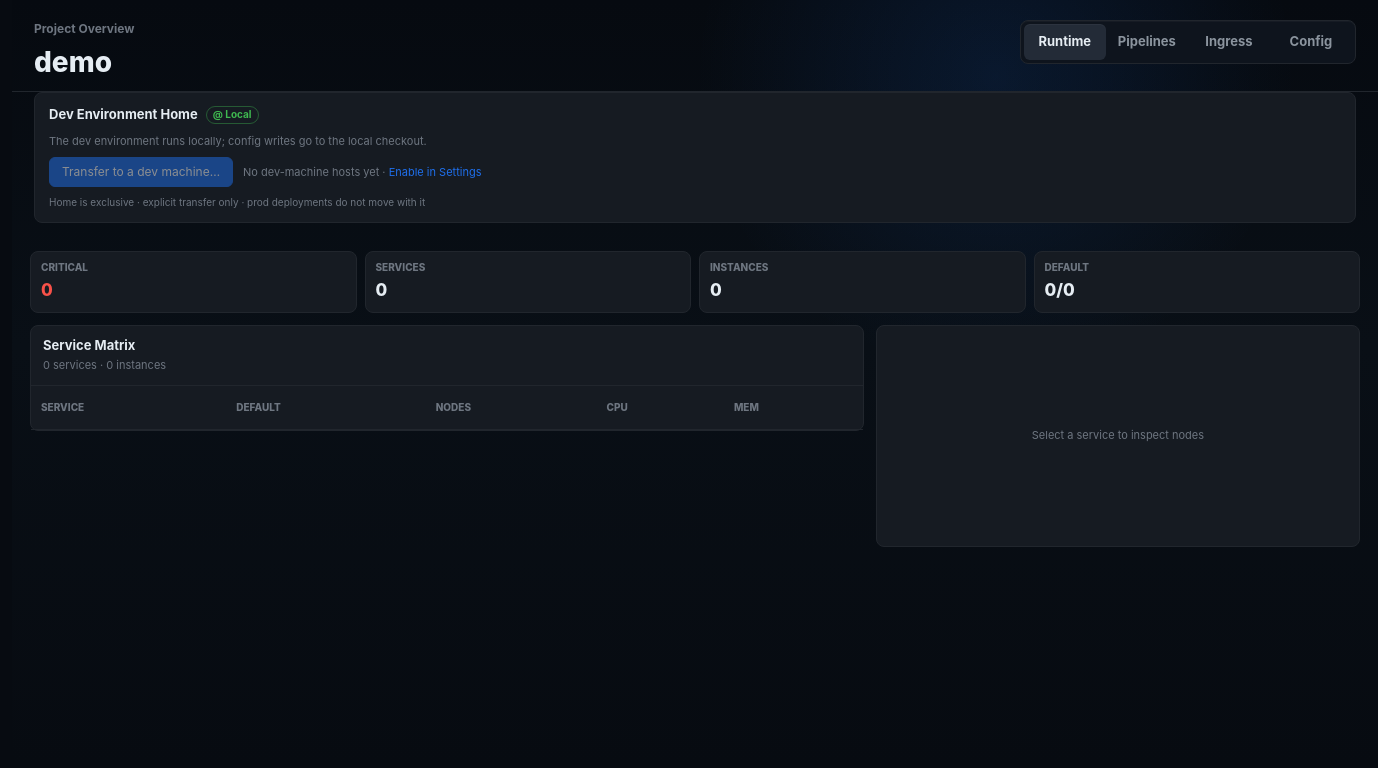
Test: ProjectOverviewPage › switches to pipelines tab
Click the button with test id "overview-tab-pipelines": (1147, 42) [1106,24,1188,60]
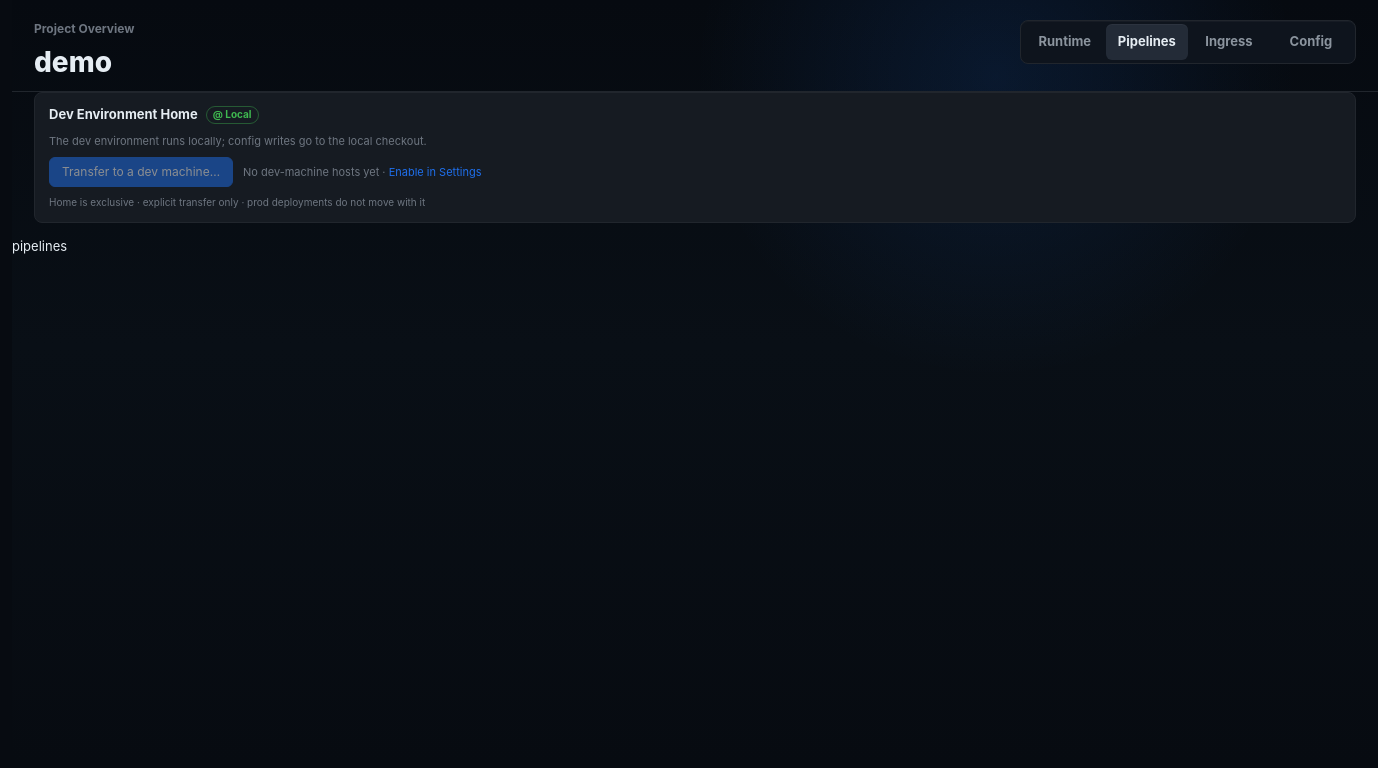
Expected: the text "pipelines" is shown, [12,238,67,254]
